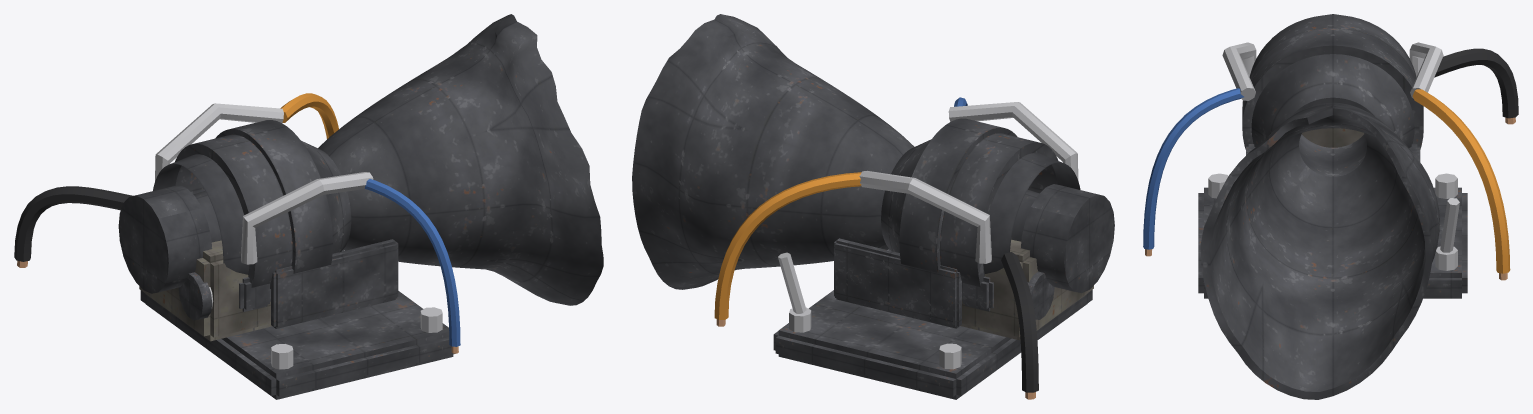
The model's file is capsule_rcs_thruster.glb.
3 views of the same model, side by side, from view 1: azimuth 30°, elevation 25°; view 2: azimuth 150°, elevation 25°; view 3: azimuth 270°, elevation 25° (orthographic).
Parts seen in each view (by area): view 1: capsule_rcs_thruster; view 2: capsule_rcs_thruster; view 3: capsule_rcs_thruster.
Boxes of the visible parts, box(x1,y1,x2,y2) form: capsule_rcs_thruster: box(14, 14, 603, 399); capsule_rcs_thruster: box(632, 14, 1114, 399); capsule_rcs_thruster: box(1143, 14, 1518, 399).
Size of the model in its own units: 0.7117 by 0.4307 by 0.5298.
7 materials, 2 textured.
